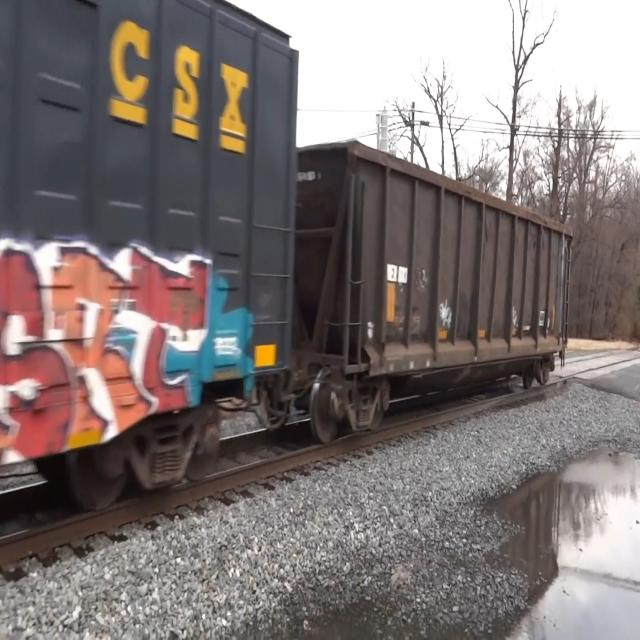boxcar: (0, 3, 304, 533)
gondola: (299, 124, 581, 445)
